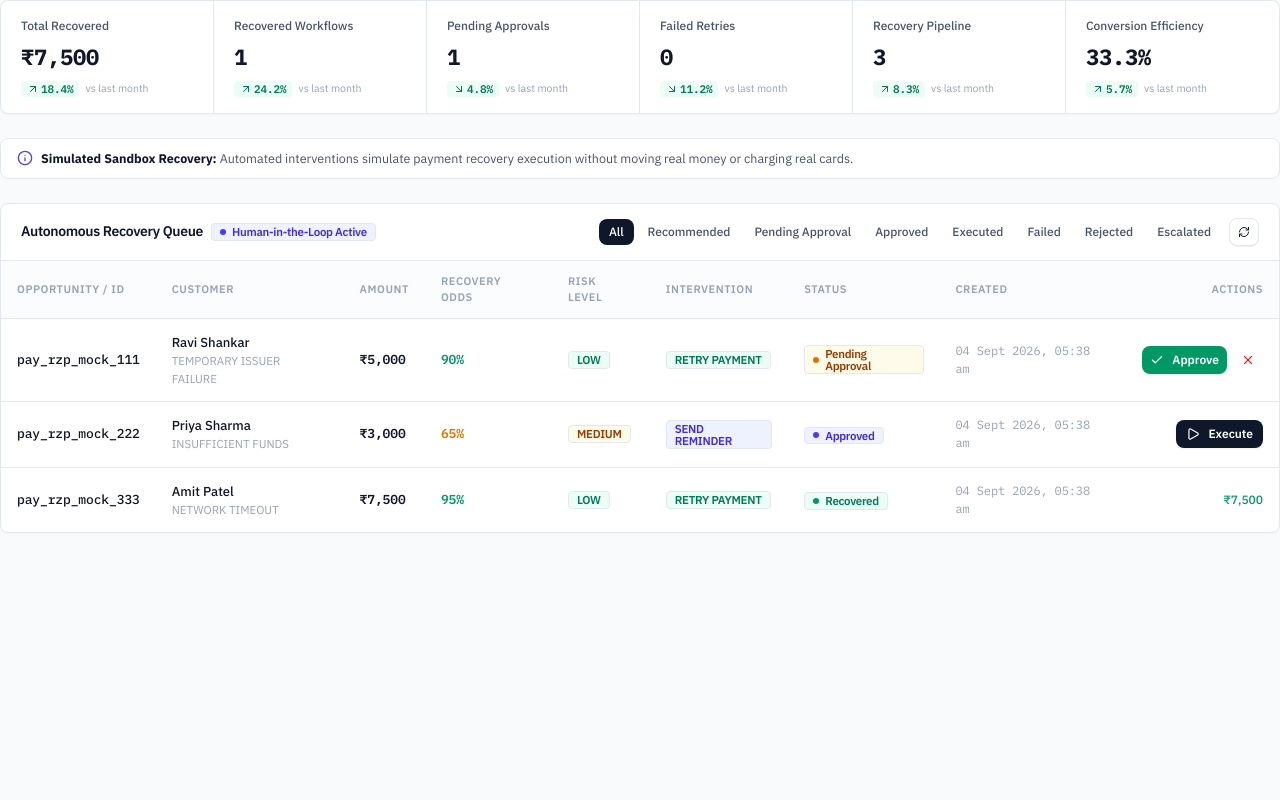
Test: Recovery Dashboard UI Component (Milestone 6 Step 10B Hardened) › allows operator to approve pending recovery action
This screenshot has width=1280, height=800.
Click the button "Approve" at (1185, 360), box x1=1142 y1=346 x2=1227 y2=374
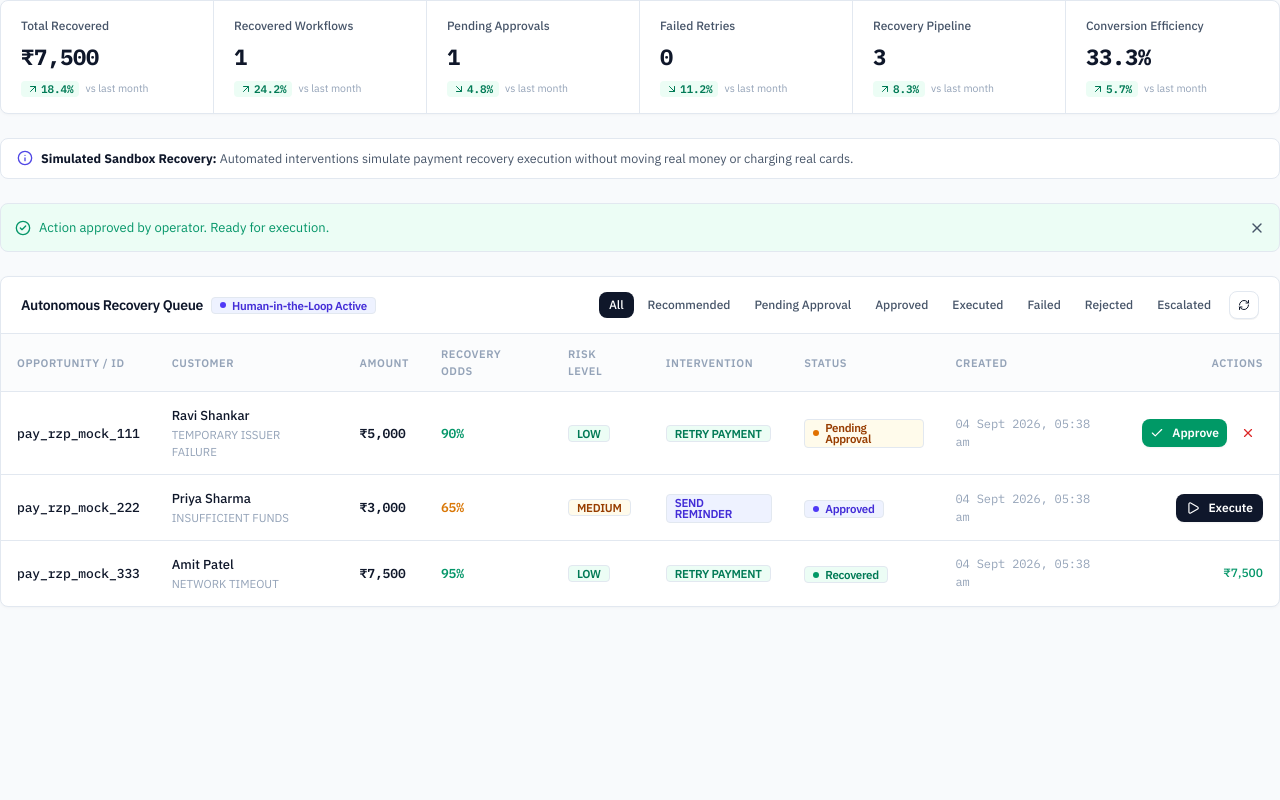
Now the text "Action approved by operator. Ready for execution." is shown, box x1=39 y1=218 x2=329 y2=237
